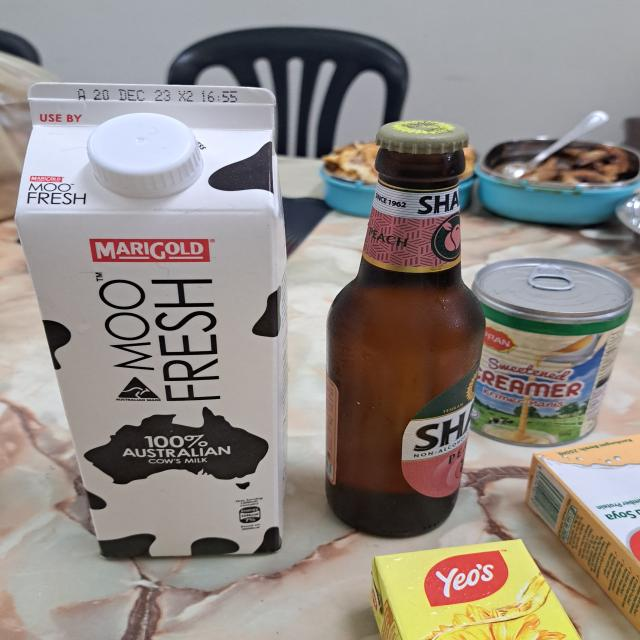can: (473, 258, 633, 445)
drink carton: (17, 82, 286, 561), (371, 537, 577, 640)
glass bottle: (325, 121, 483, 539)
plastic bottle cap: (88, 111, 200, 197)
pop tab: (532, 260, 572, 294)
